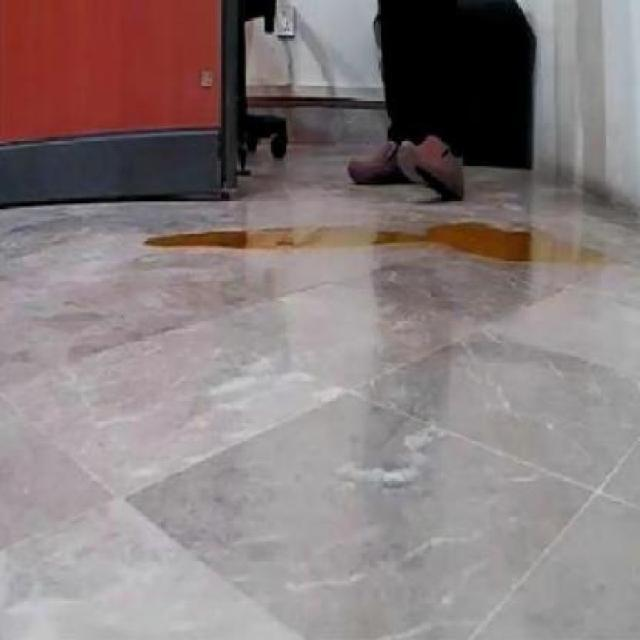spillage: (142, 224, 607, 263)
